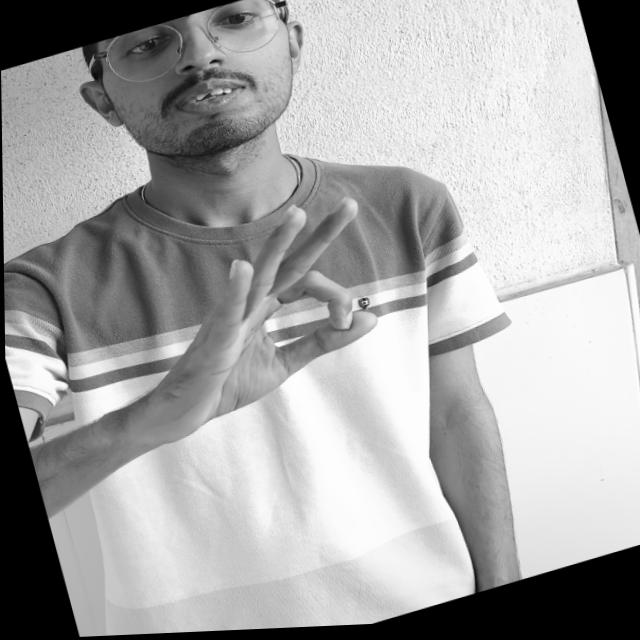Superb: (76, 172, 436, 475)
